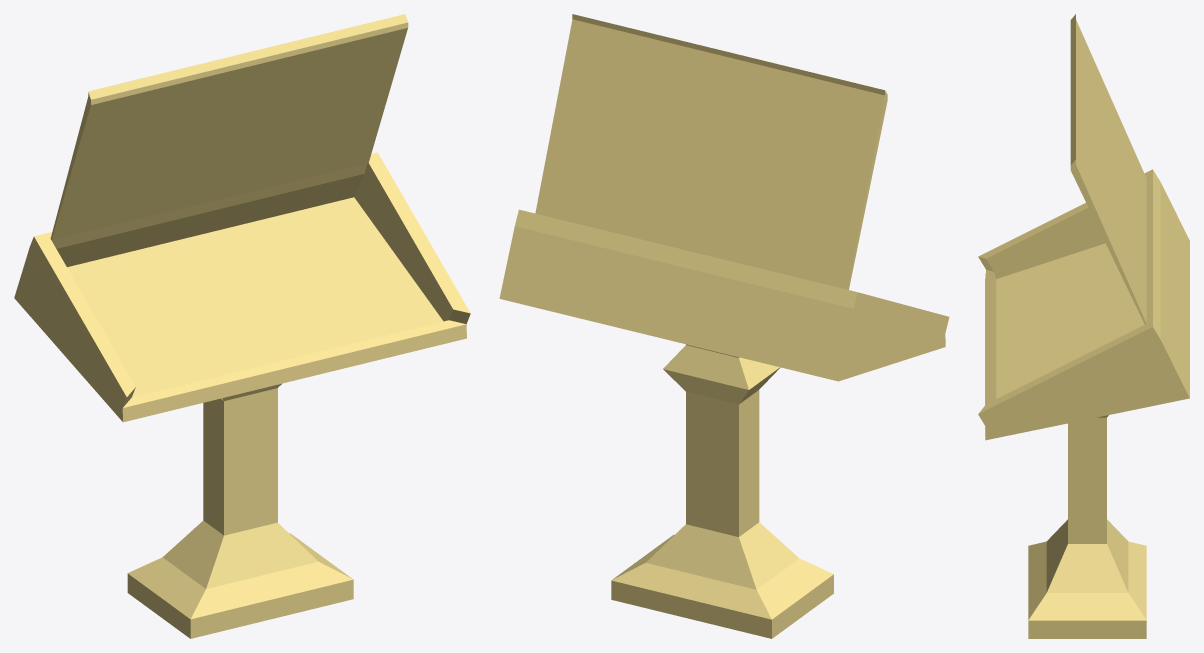
Rendered from Display Case.002.fbx.
The picture shows the model from 3 angles, left to right: view 1: azimuth 30°, elevation 25°; view 2: azimuth 150°, elevation 25°; view 3: azimuth 270°, elevation 25°; orthographic projection. The views are drawn at different scales.
Parts seen in each view (by area): view 1: Display Case.002; view 2: Display Case.002; view 3: Display Case.002.
Part boxes in pixels (x1,y1,x2,y2): Display Case.002: (14,14,470,638); Display Case.002: (499,14,949,638); Display Case.002: (978,14,1189,638).
Bounding box in the file's own units: 147 × 224 × 83.62.
